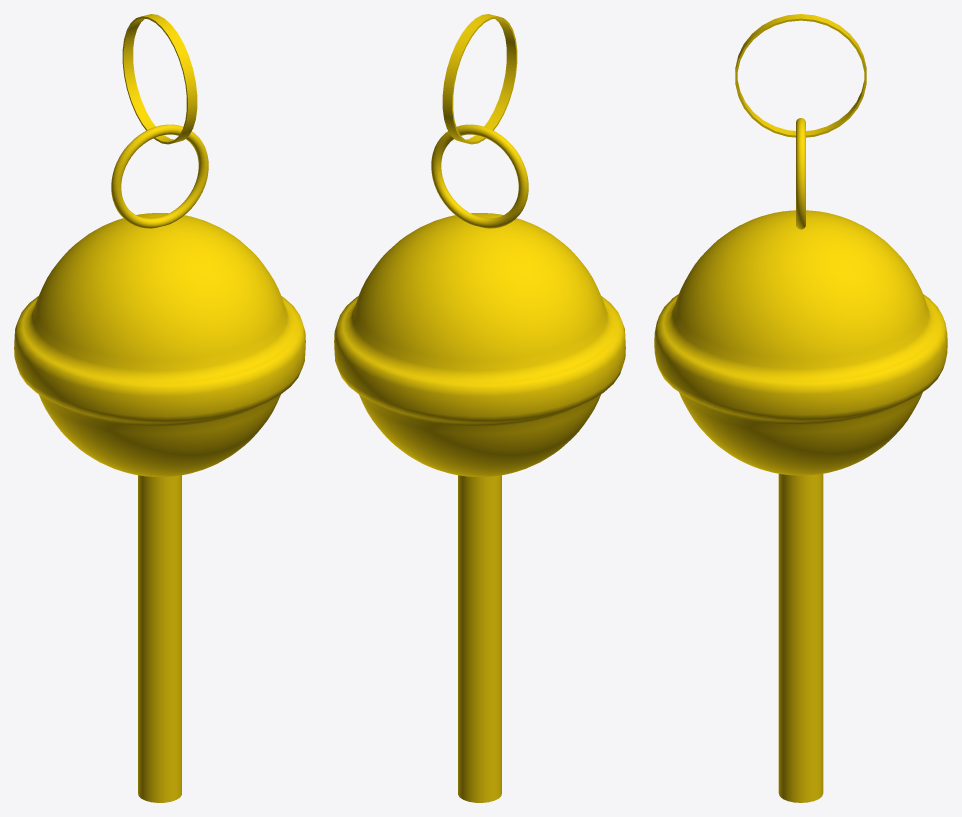
The model's file is earring.glb.
3 views of the same model, side by side, from view 1: azimuth 30°, elevation 25°; view 2: azimuth 150°, elevation 25°; view 3: azimuth 270°, elevation 25° (orthographic).
Visible parts, largest first — view 1: polySurface5_lambert13_0; view 2: polySurface5_lambert13_0; view 3: polySurface5_lambert13_0.
Part boxes in pixels (x1=…): polySurface5_lambert13_0: x1=14, y1=14, x2=305, y2=802; polySurface5_lambert13_0: x1=334, y1=14, x2=625, y2=802; polySurface5_lambert13_0: x1=654, y1=14, x2=947, y2=802.
Size of the model in its own units: 0.0212 by 0.0619 by 0.0212.
